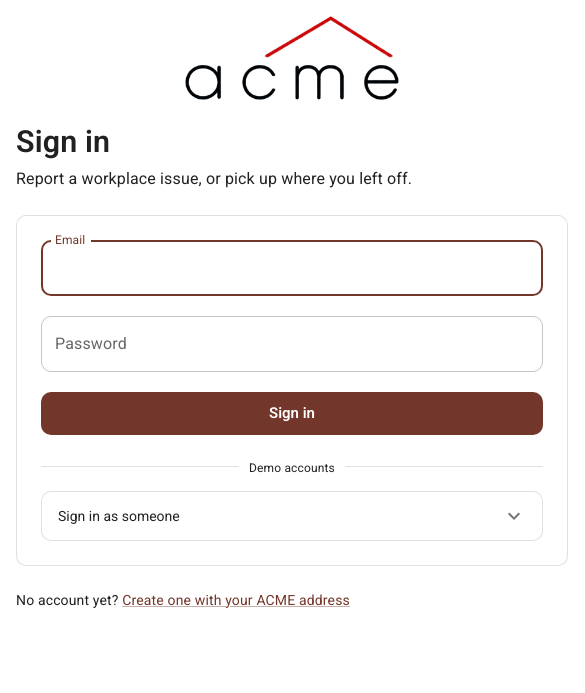
Test case: LoginPage › shows the API refusal without guessing which field was wrong
Type "jordan.lee@acme.inc" into the field labelled "Email".
click(292, 268); type("jordan.lee@acme.inc")  # box x1=41 y1=240 x2=543 y2=296
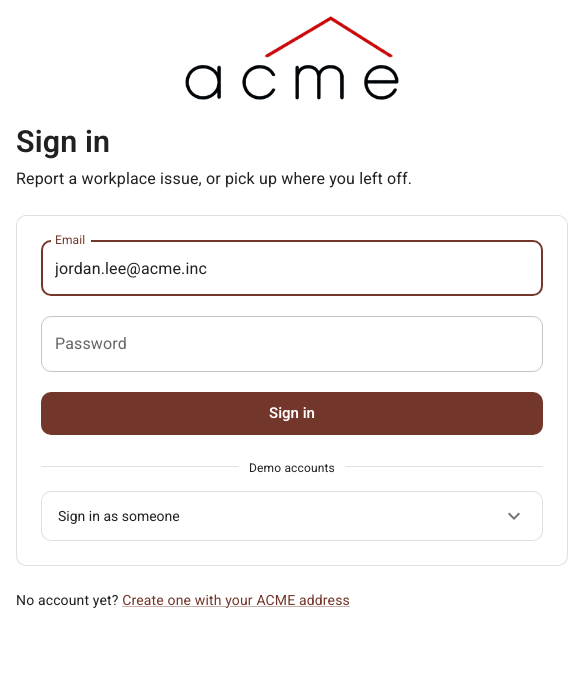
Type "wrong password" into the password field labelled "Password".
click(292, 344); type("wrong password")  # box x1=41 y1=316 x2=543 y2=372
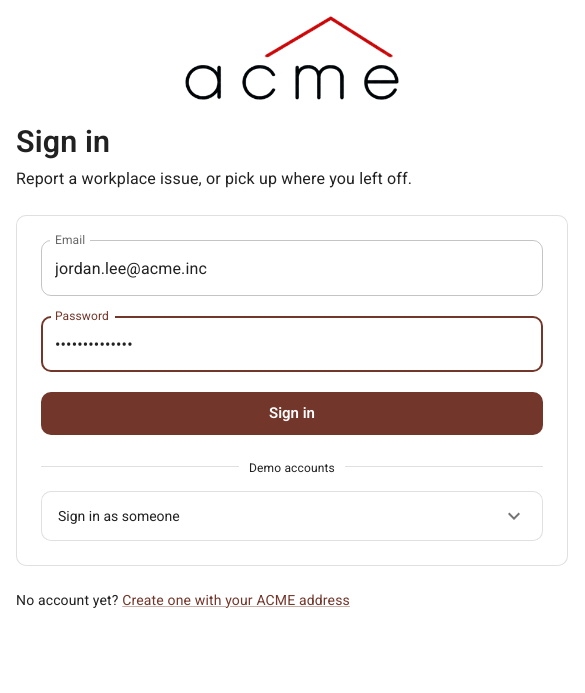
Click the button "Sign in".
click(292, 414)  # box x1=41 y1=392 x2=543 y2=435
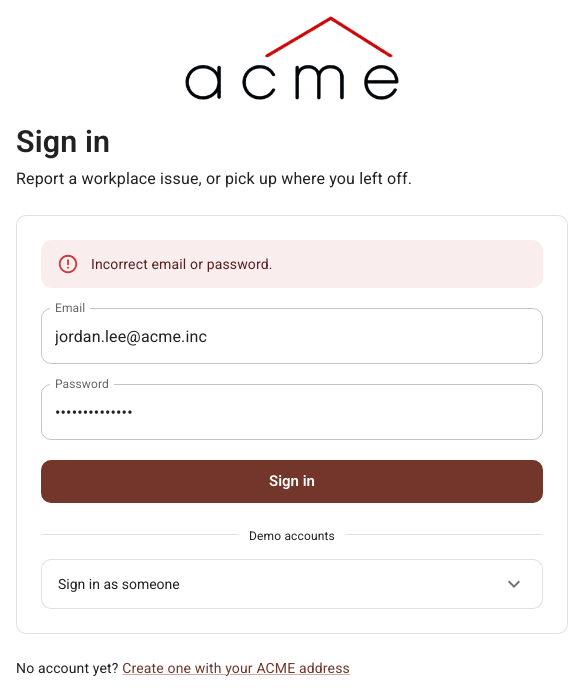
Expected: the text "Incorrect email or password." is shown, x1=91 y1=256 x2=273 y2=272
